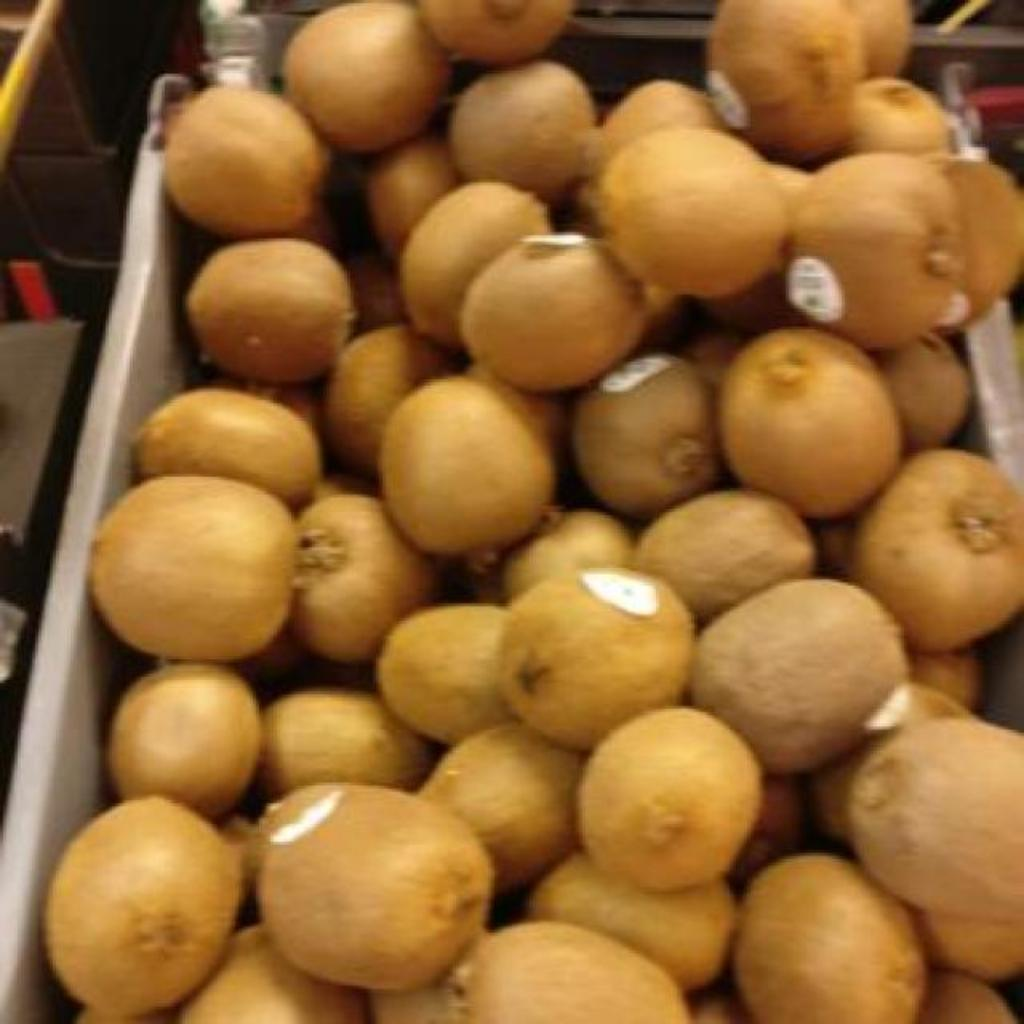kiwi: (258, 784, 494, 989), (46, 796, 242, 1013), (692, 584, 908, 773), (94, 476, 292, 661), (788, 152, 968, 349), (850, 718, 1024, 919), (720, 328, 902, 517), (502, 568, 692, 749), (854, 450, 1024, 651), (578, 706, 762, 891), (734, 854, 926, 1024), (600, 128, 788, 297), (378, 376, 554, 553), (460, 234, 646, 391), (528, 852, 734, 989), (420, 722, 582, 891), (808, 682, 969, 843), (708, 0, 868, 161), (400, 182, 550, 347), (284, 2, 448, 151), (572, 354, 720, 517), (292, 494, 436, 661), (166, 88, 326, 237), (188, 238, 350, 381), (110, 664, 260, 815), (636, 492, 812, 619), (471, 924, 690, 1024), (140, 390, 320, 505), (452, 60, 594, 195), (376, 606, 512, 743), (180, 926, 368, 1023), (704, 164, 810, 334), (326, 326, 448, 473), (262, 692, 430, 795), (938, 158, 1024, 325), (370, 934, 488, 1024), (508, 512, 630, 599), (370, 142, 458, 257), (882, 334, 970, 449), (466, 366, 564, 465), (422, 0, 569, 63), (606, 80, 722, 153), (730, 776, 804, 885), (850, 78, 948, 153), (920, 912, 1024, 980), (920, 972, 1018, 1024), (845, 0, 912, 75), (910, 654, 982, 709), (684, 330, 744, 388), (808, 516, 858, 578), (690, 990, 748, 1024)
